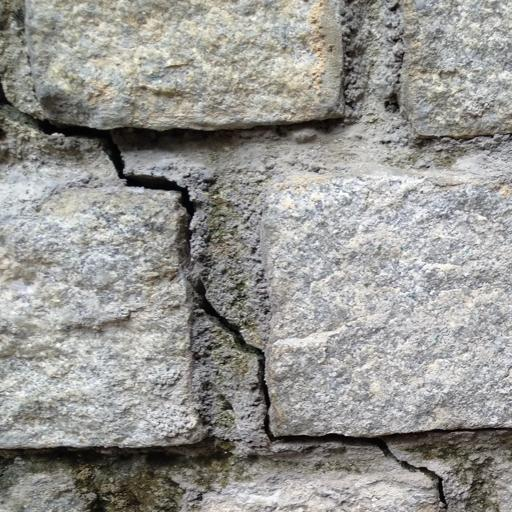major_crack: (0, 68, 455, 512)
